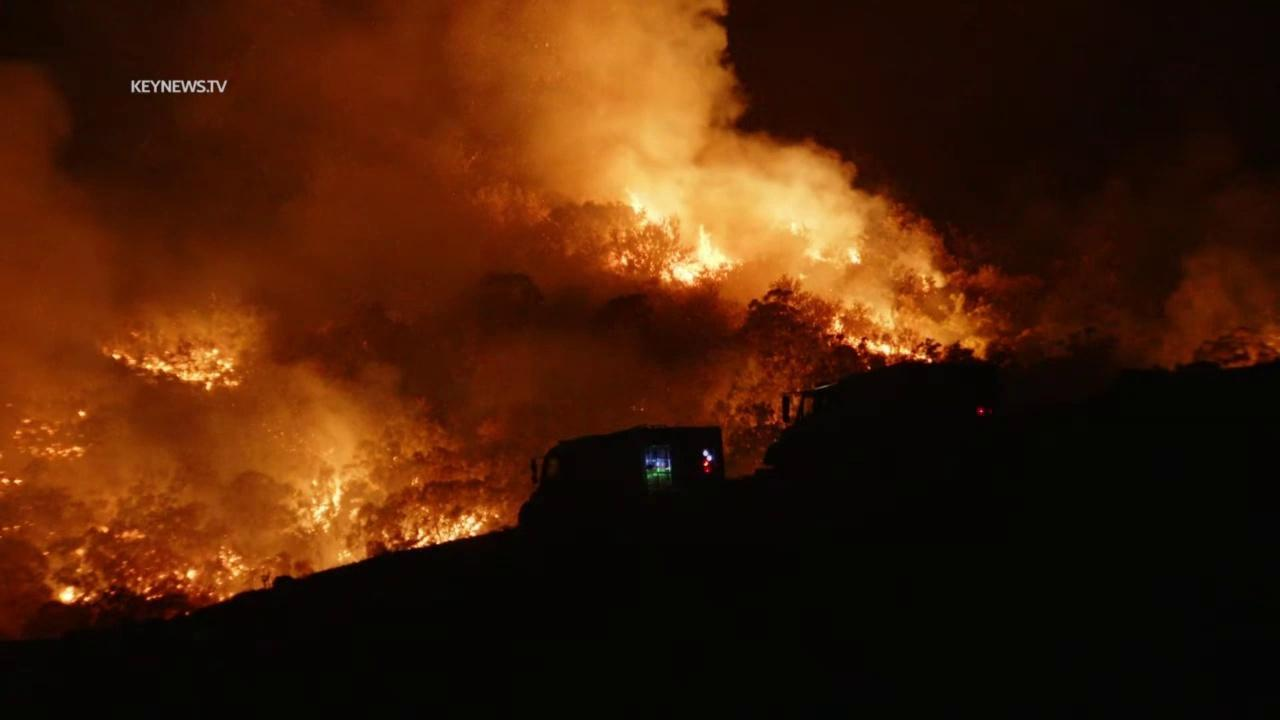fire: (618, 191, 735, 284), (101, 328, 243, 393), (124, 544, 253, 604), (831, 311, 936, 365), (403, 504, 491, 551), (789, 217, 864, 267), (12, 418, 91, 462), (308, 474, 344, 535), (57, 581, 100, 607), (72, 546, 89, 573), (335, 545, 354, 569), (76, 408, 87, 418), (0, 477, 12, 486), (13, 477, 23, 487), (2, 524, 12, 531), (13, 523, 21, 531)
smoke: (0, 0, 1280, 649)
